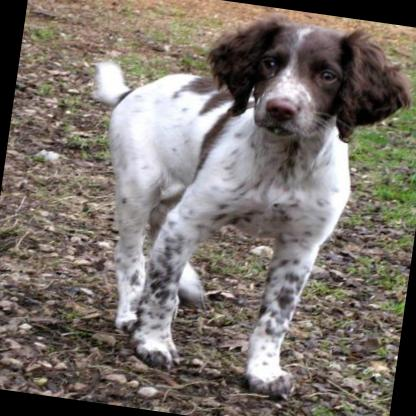English_springer: (46, 0, 416, 408)
